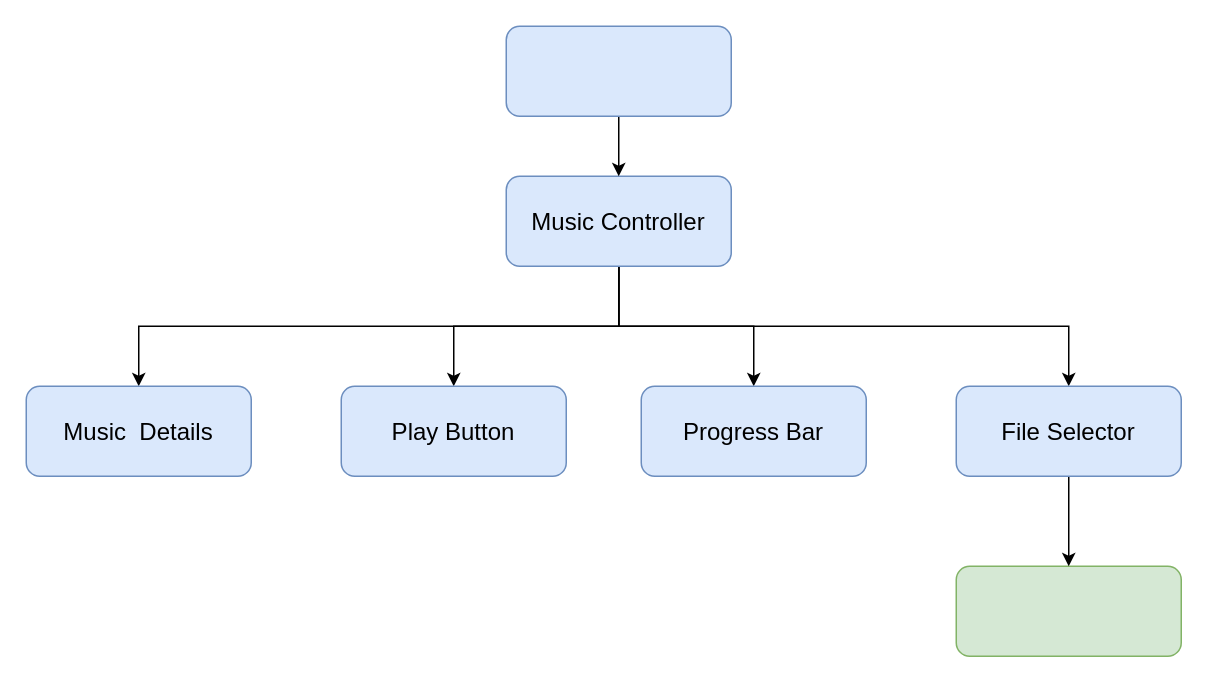
Some shapes in this 1208 by 683 pixel diagram are drawn without their labels. The box of each missing label's shape, as (x1, y1, x2, y2) in pixels:
App: (505, 25, 731, 116)
Song Loader: (955, 565, 1181, 656)
